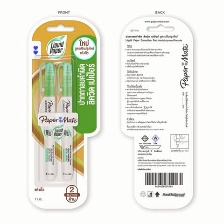book: (24, 14, 102, 210), (119, 16, 194, 209)
correction_fluid: (36, 60, 59, 182), (54, 60, 75, 182)
